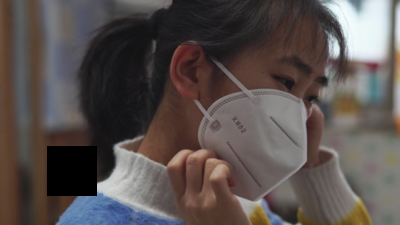with_mask: (196, 53, 330, 205)
